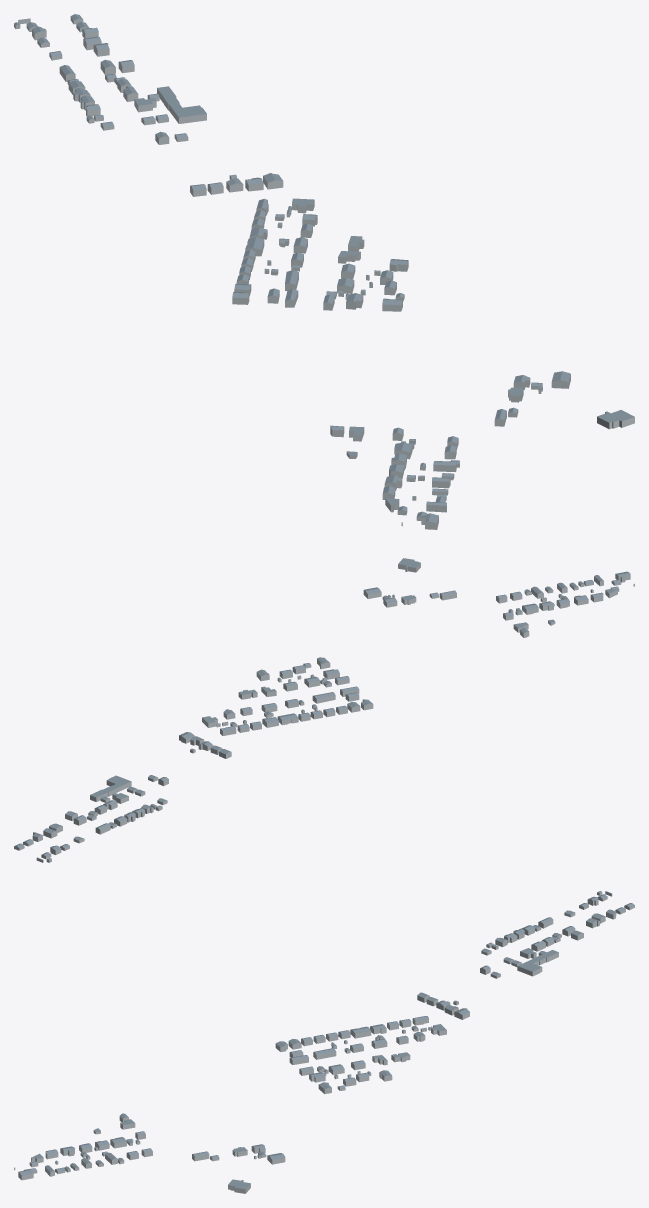
File: SM_MPR_Env_Far_W_Buildings.fbx
3 renders of one model, top to bottom at view 1: azimuth 30°, elevation 25°; view 2: azimuth 150°, elevation 25°; view 3: azimuth 330°, elevation 25°, orthographic. The views are drawn at different scales.
Visible parts, largest first — view 1: SM_MPR_Env_Far_W_Buildings; view 2: SM_MPR_Env_Far_W_Buildings; view 3: SM_MPR_Env_Far_W_Buildings.
Part boxes in pixels (x1,y1,x2,y2): SM_MPR_Env_Far_W_Buildings: (14, 14, 634, 529); SM_MPR_Env_Far_W_Buildings: (14, 558, 634, 862); SM_MPR_Env_Far_W_Buildings: (14, 891, 634, 1193).
Bounding box in the file's own units: 25461 × 98009 × 730.
